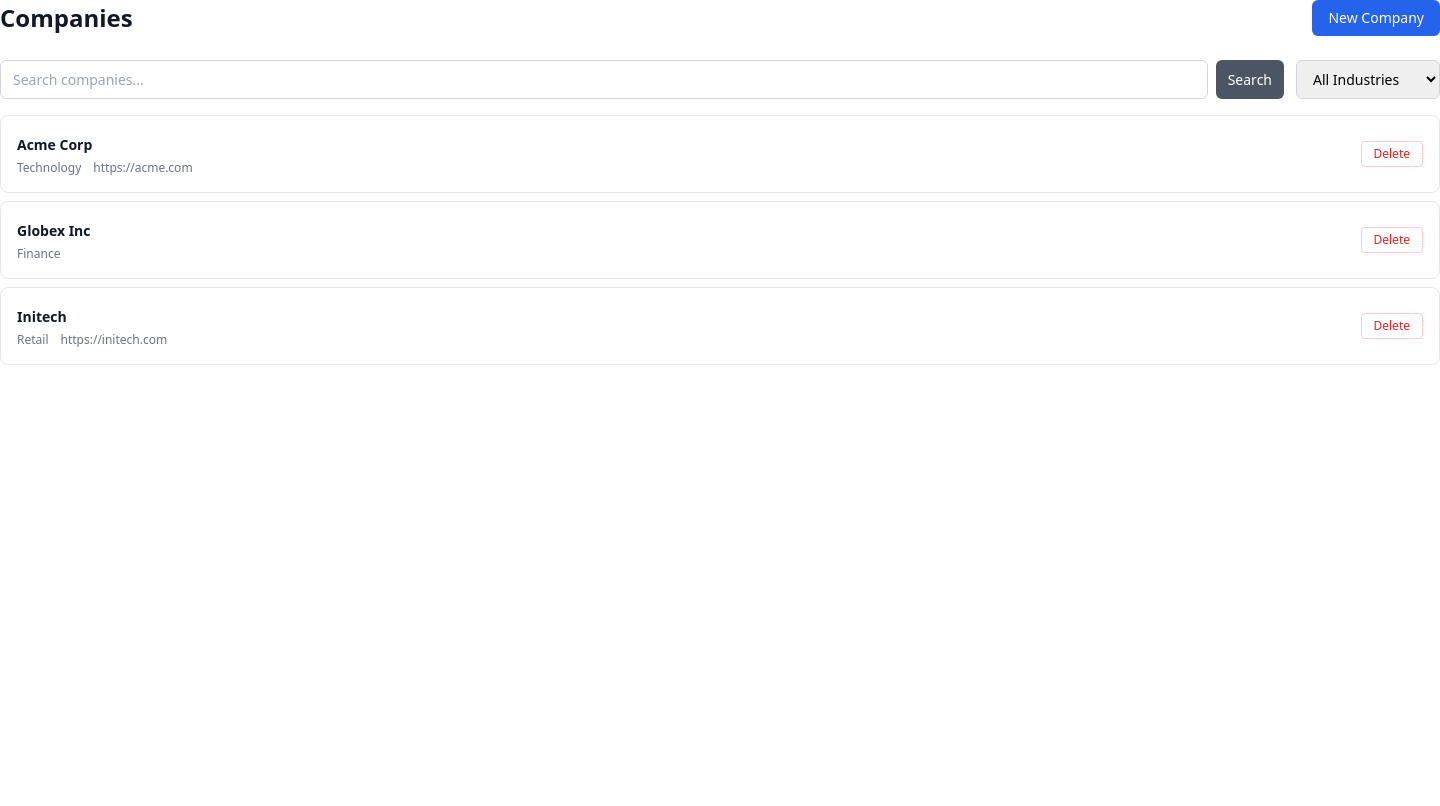
CompaniesPage — new company form › submitting form without name shows validation error
Expected: the link "Acme Corp" is shown, [17,135,92,154]
Click the button "New Company": (1376, 18) [1312,0,1439,36]
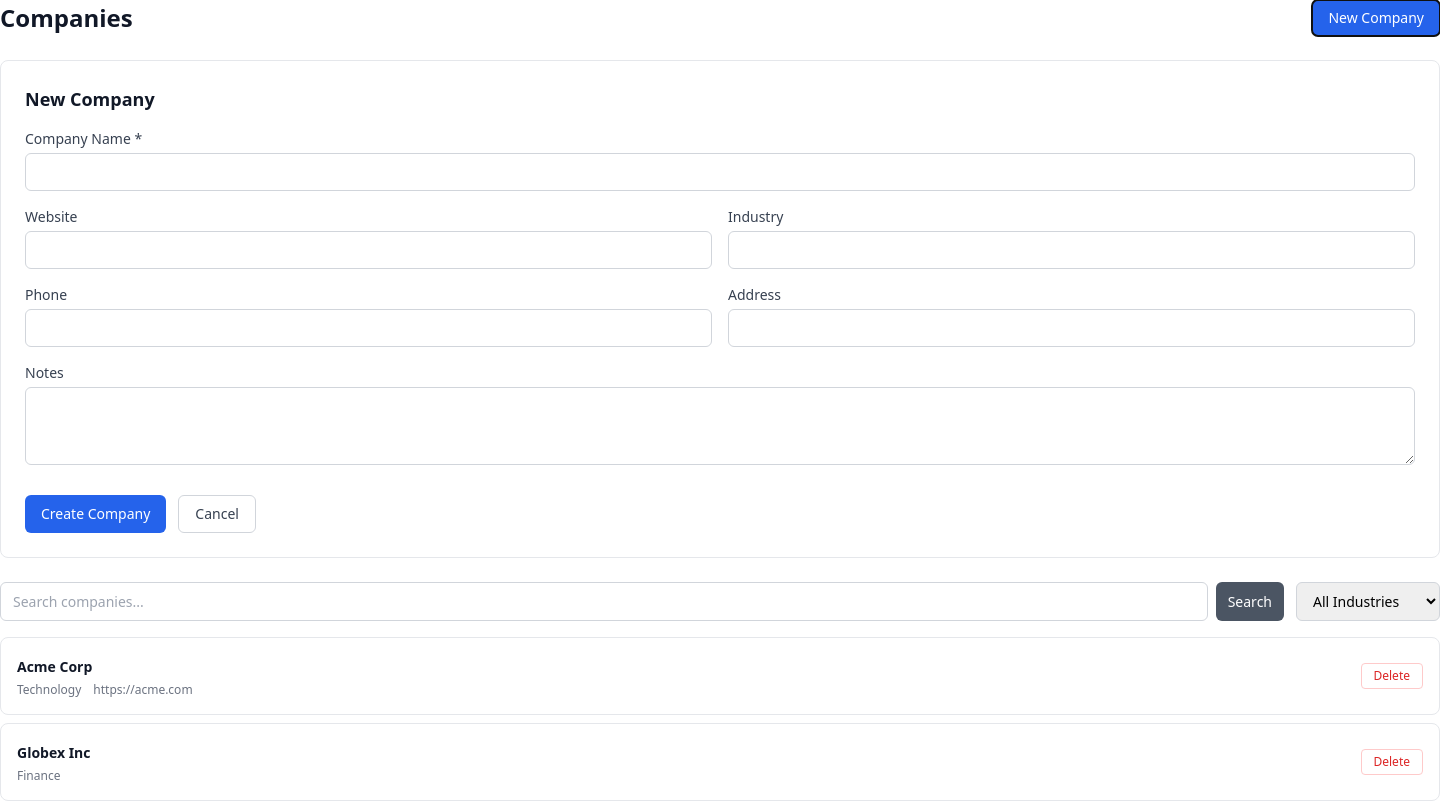
Click the button "Create Company": (96, 514) [25,495,166,533]
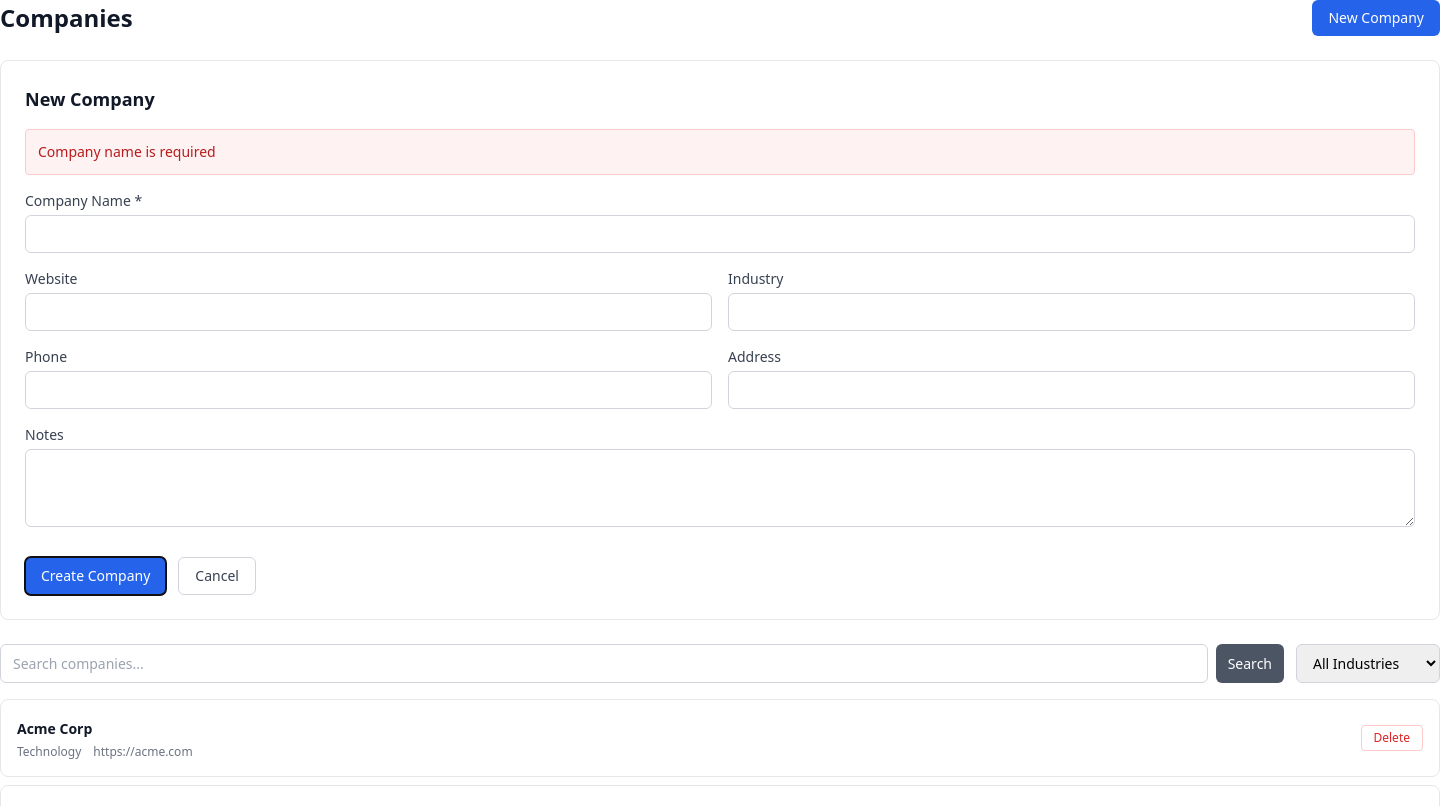
Expected: the message reads "Company name is required", [38,142,216,161]
